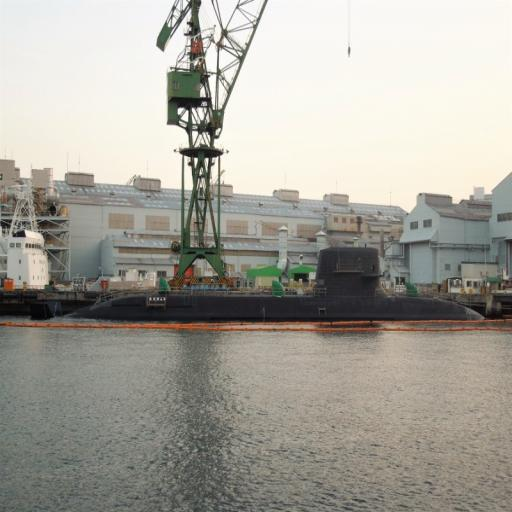submarine: (48, 239, 510, 331)
